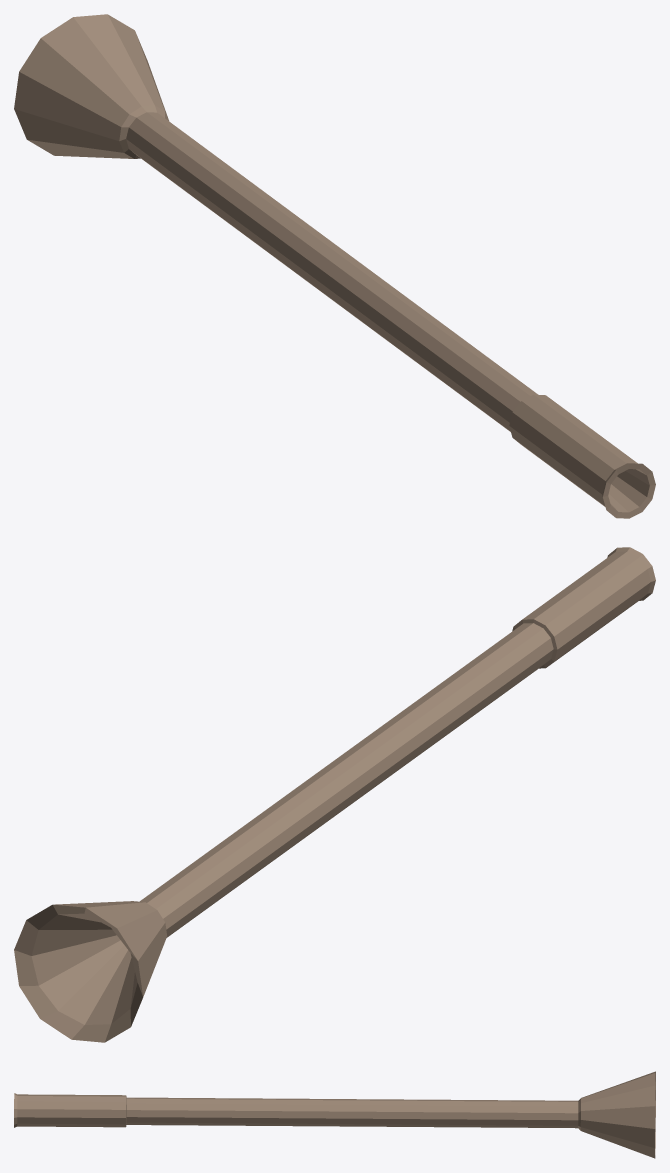
Rendered from Blow_Gun_Export_Model.FBX.
3 renders of one model, top to bottom at view 1: azimuth 30°, elevation 25°; view 2: azimuth 150°, elevation 25°; view 3: azimuth 270°, elevation 25°, orthographic. The views are drawn at different scales.
Parts seen in each view (by area): view 1: BlowGun; view 2: BlowGun; view 3: BlowGun.
Boxes of the visible parts, <box> form: BlowGun: <box>14,14,655,518</box>; BlowGun: <box>14,547,655,1042</box>; BlowGun: <box>14,1071,655,1158</box>.
Size of the model in its own units: 6.42 by 6.42 by 46.59.
